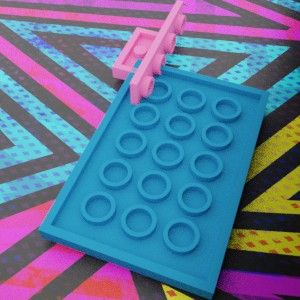lego: (37, 58, 270, 299), (112, 0, 186, 110)
